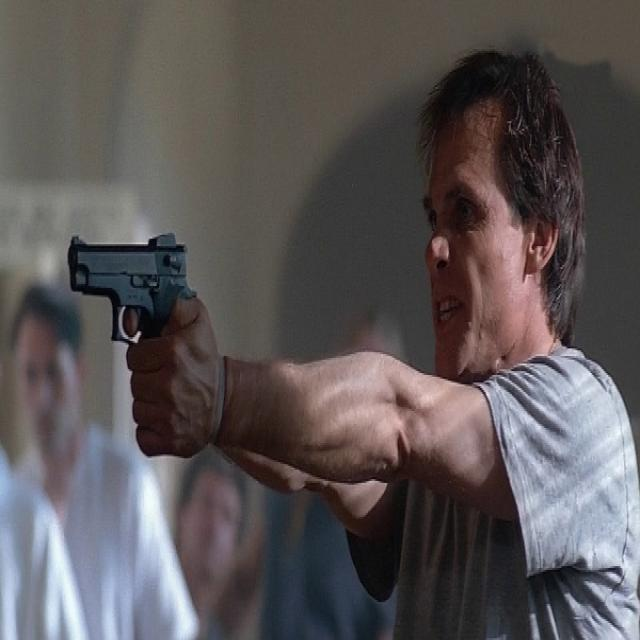weapons: (61, 216, 204, 410)
